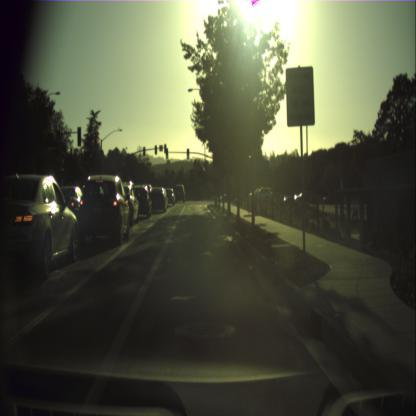Green: (186, 148, 189, 159), (165, 148, 168, 157)
